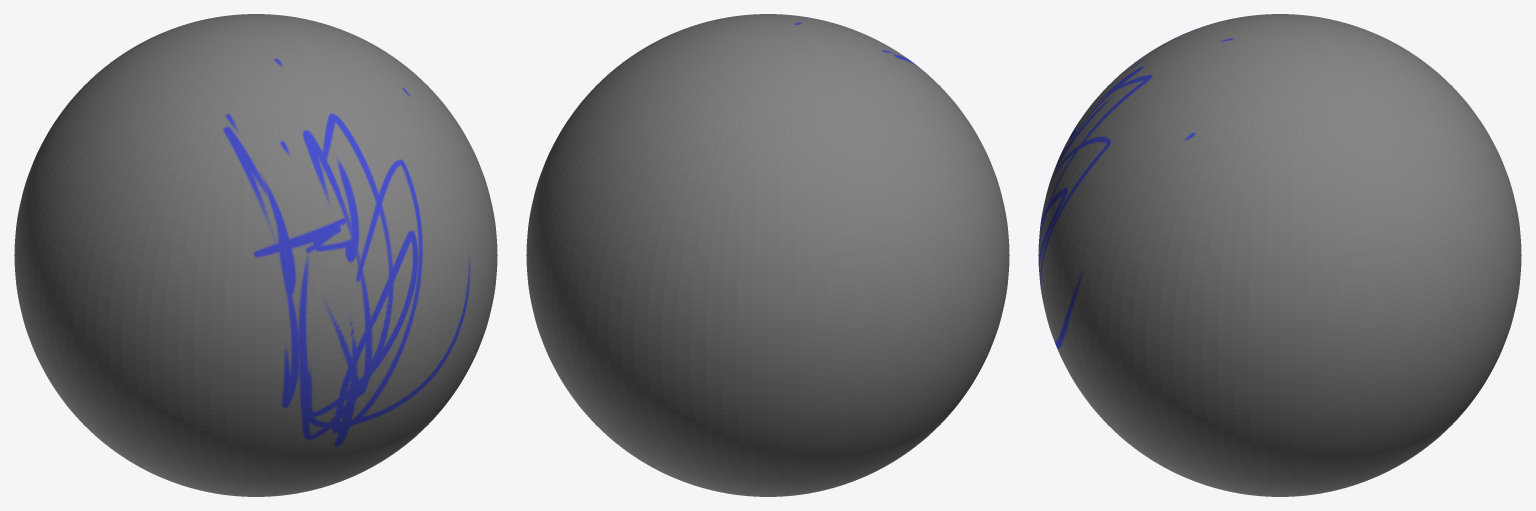
3 views of the same model, side by side, from view 1: azimuth 30°, elevation 25°; view 2: azimuth 150°, elevation 25°; view 3: azimuth 270°, elevation 25° (orthographic).
Visible parts, largest first — view 1: node_id3; view 2: node_id3; view 3: node_id3.
Boxes of the visible parts, x1,y1,x2,y2 form: node_id3: (14, 14, 497, 496); node_id3: (526, 14, 1009, 496); node_id3: (1038, 14, 1521, 496).
Bounding box in the file's own units: 0.512 × 0.512 × 0.512.
Materials: 1 (1 with a texture image).
